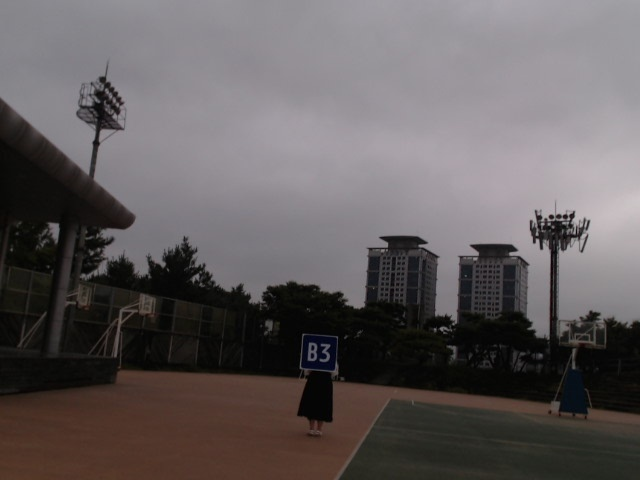delivery_b3: (299, 333, 339, 372)
